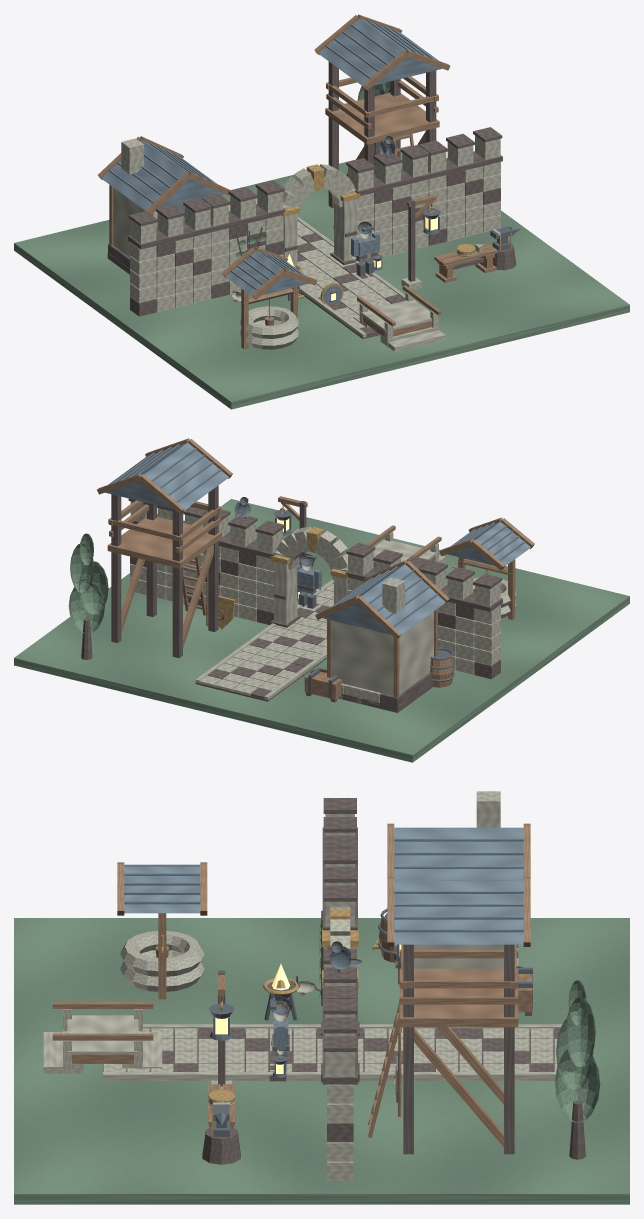
File: lantern-watch-starter-scene__99.glb
3 views of the same model, one above another, from view 1: azimuth 30°, elevation 25°; view 2: azimuth 150°, elevation 25°; view 3: azimuth 270°, elevation 25° (orthographic). The views are drawn at different scales.
Visible parts, largest first — view 1: terrain-base, 05-lantern-watch-battlement-wall/1, 03-lantern-watch-watchtower/1, 08-lantern-watch-battlement-wall/1, 07-lantern-watch-battlement-wall/1, 03-lantern-watch-watchtower/2, 02-lantern-watch-gatehouse/2, 04-lantern-watch-stone-arch/0, 06-lantern-watch-battlement-wall/1, 05-lantern-watch-battlement-wall/0, 13-lantern-watch-stone-bridge/1, 03-lantern-watch-watchtower/0 (+16 smaller); view 2: terrain-base, 03-lantern-watch-watchtower/1, 02-lantern-watch-gatehouse/1, 03-lantern-watch-watchtower/0, 03-lantern-watch-watchtower/2, 05-lantern-watch-battlement-wall/1, 07-lantern-watch-battlement-wall/1, 02-lantern-watch-gatehouse/2, 04-lantern-watch-stone-arch/0, 17-lantern-watch-courtyard-cypress/1, 09-lantern-watch-cobble-path/1, 10-lantern-watch-cobble-path/1 (+18 smaller); view 3: terrain-base, 03-lantern-watch-watchtower/1, 03-lantern-watch-watchtower/2, 02-lantern-watch-gatehouse/2, 13-lantern-watch-stone-bridge/1, 17-lantern-watch-courtyard-cypress/1, 03-lantern-watch-watchtower/0, 19-lantern-watch-courtyard-well/3, 19-lantern-watch-courtyard-well/0, 11-lantern-watch-cobble-path/1, 12-lantern-watch-cobble-path/1, 09-lantern-watch-cobble-path/1 (+19 smaller).
Part boxes in pixels (<box>): terrain-base: <box>14,152,629,409</box>; 05-lantern-watch-battlement-wall/1: <box>130,206,211,312</box>; 03-lantern-watch-watchtower/1: <box>314,14,450,203</box>; 08-lantern-watch-battlement-wall/1: <box>428,135,500,241</box>; 07-lantern-watch-battlement-wall/1: <box>348,153,428,256</box>; 03-lantern-watch-watchtower/2: <box>318,18,441,85</box>; 02-lantern-watch-gatehouse/2: <box>101,140,224,210</box>; 04-lantern-watch-stone-arch/0: <box>283,164,356,264</box>; 06-lantern-watch-battlement-wall/1: <box>210,188,283,294</box>; 05-lantern-watch-battlement-wall/0: <box>128,198,212,316</box>; 13-lantern-watch-stone-bridge/1: <box>353,292,445,351</box>; 03-lantern-watch-watchtower/0: <box>328,61,436,208</box>; terrain-base: <box>14,499,629,762</box>; 03-lantern-watch-watchtower/1: <box>97,438,232,647</box>; 02-lantern-watch-gatehouse/1: <box>331,577,433,706</box>; 03-lantern-watch-watchtower/0: <box>111,485,218,658</box>; 03-lantern-watch-watchtower/2: <box>105,442,229,510</box>; 05-lantern-watch-battlement-wall/1: <box>422,569,500,674</box>; 07-lantern-watch-battlement-wall/1: <box>202,516,282,621</box>; 02-lantern-watch-gatehouse/2: <box>323,564,445,634</box>; 04-lantern-watch-stone-arch/0: <box>274,526,347,623</box>; 17-lantern-watch-courtyard-cypress/1: <box>68,533,108,633</box>; 09-lantern-watch-cobble-path/1: <box>195,649,309,700</box>; 10-lantern-watch-cobble-path/1: <box>238,623,326,670</box>; terrain-base: <box>14,918,629,1204</box>; 03-lantern-watch-watchtower/1: <box>368,877,530,1147</box>; 03-lantern-watch-watchtower/2: <box>394,879,523,944</box>; 02-lantern-watch-gatehouse/2: <box>394,827,523,879</box>; 13-lantern-watch-stone-bridge/1: <box>43,1009,162,1073</box>; 17-lantern-watch-courtyard-cypress/1: <box>555,980,600,1122</box>; 03-lantern-watch-watchtower/0: <box>403,944,514,1154</box>; 19-lantern-watch-courtyard-well/3: <box>124,864,200,913</box>; 19-lantern-watch-courtyard-well/0: <box>120,931,204,991</box>; 11-lantern-watch-cobble-path/1: <box>225,1024,322,1080</box>; 12-lantern-watch-cobble-path/1: <box>103,1024,217,1080</box>; 09-lantern-watch-cobble-path/1: <box>459,1024,562,1080</box>.
Size of the model in its own units: 11 by 4.91 by 10.38.
8 materials, 6 textured.
